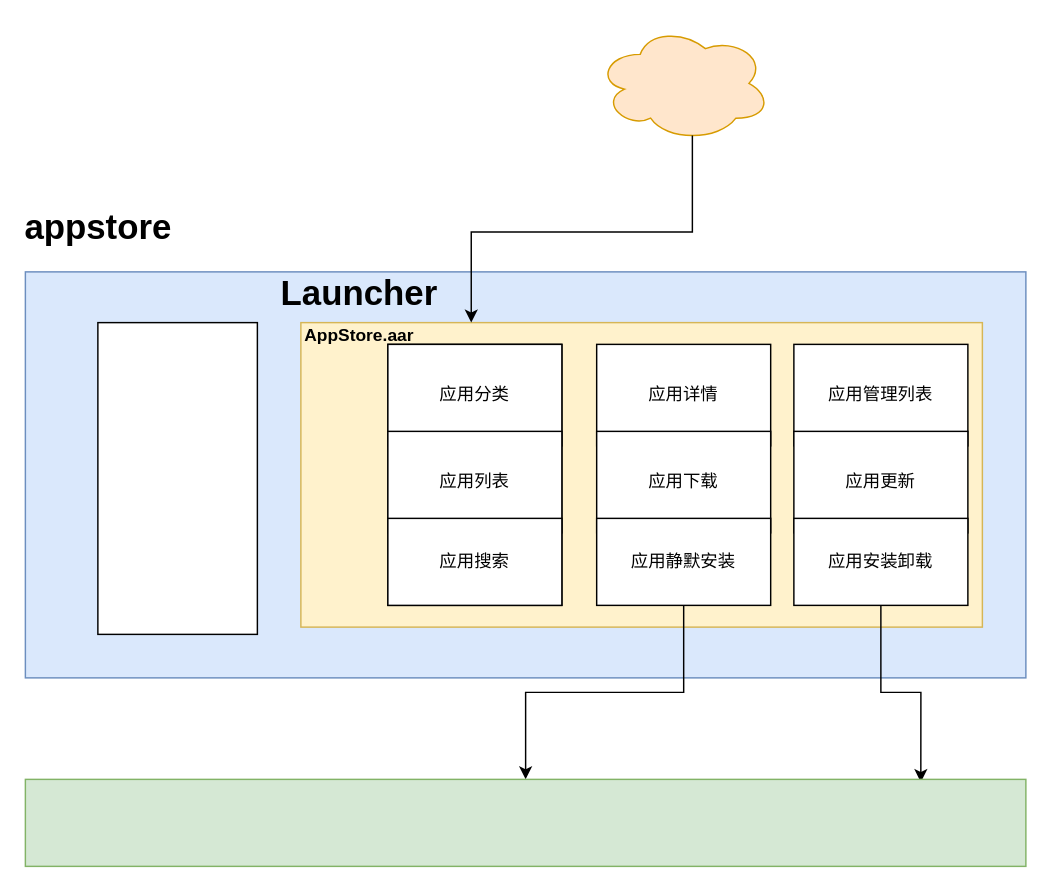
This 1051x892 diagram has some shape labels left out. The shapes that lost their labels are listed below. From the top down, each one's box as (x1, y1, x2, y2) in pixels, then its label:
(595, 24, 771, 141): 云端
(96, 321, 257, 634): All app
(24, 778, 1026, 866): 系统AAOS
